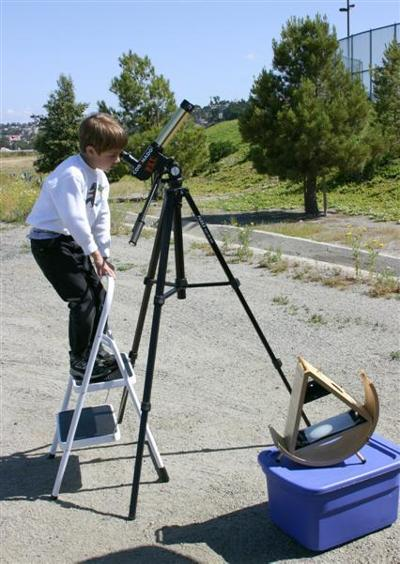person: (26, 114, 130, 380)
